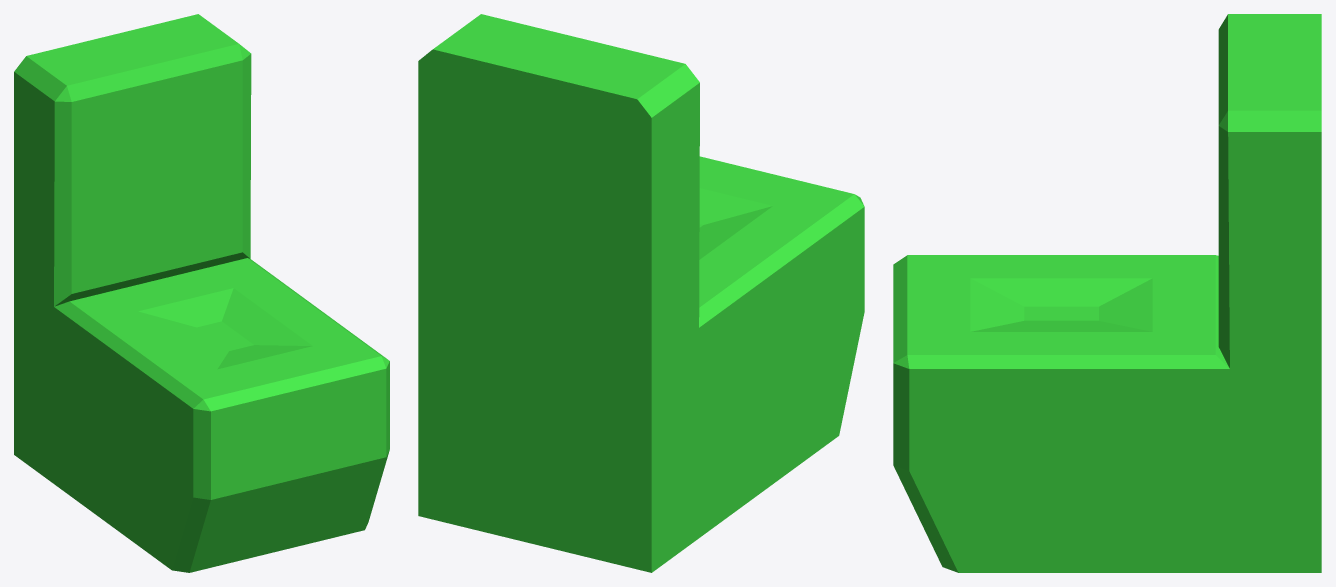
The model's file is Chair_10_Straight_B.fbx.
The picture shows the model from 3 angles, left to right: view 1: azimuth 30°, elevation 25°; view 2: azimuth 150°, elevation 25°; view 3: azimuth 270°, elevation 25°; orthographic projection. The views are drawn at different scales.
Visible parts, largest first — view 1: Chair_10_Straight_B; view 2: Chair_10_Straight_B; view 3: Chair_10_Straight_B.
Part boxes in pixels (x1,y1,x2,y2): Chair_10_Straight_B: [14, 14, 389, 572]; Chair_10_Straight_B: [418, 14, 864, 572]; Chair_10_Straight_B: [893, 14, 1321, 572].
Size of the model in its own units: 45.7 by 87.99 by 75.04.
